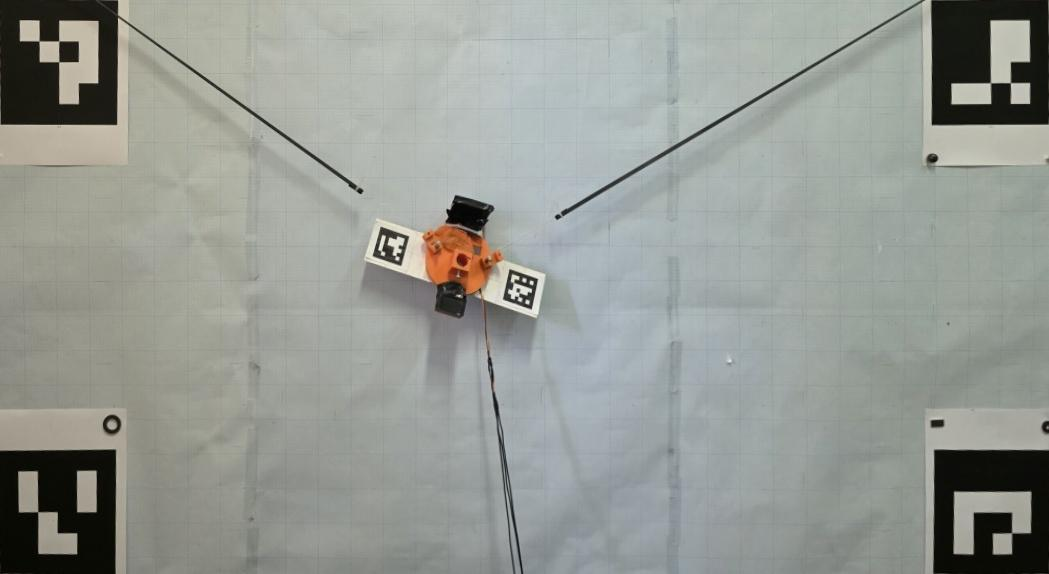robot: (422, 195, 504, 319)
